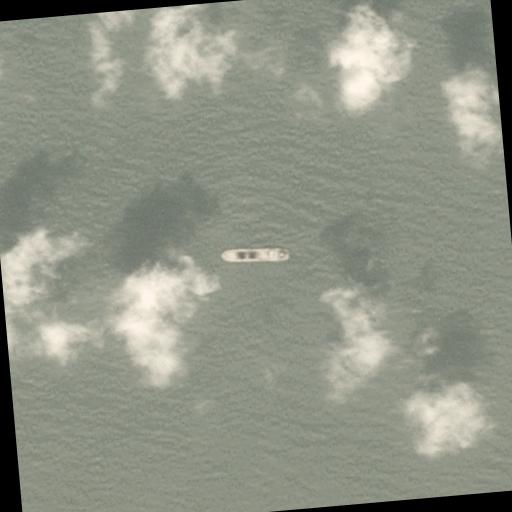ship: (99, 239, 232, 404), (317, 0, 423, 72), (338, 276, 377, 401), (454, 60, 474, 166), (221, 243, 291, 269), (424, 394, 472, 429), (98, 0, 110, 72), (6, 339, 28, 342)
